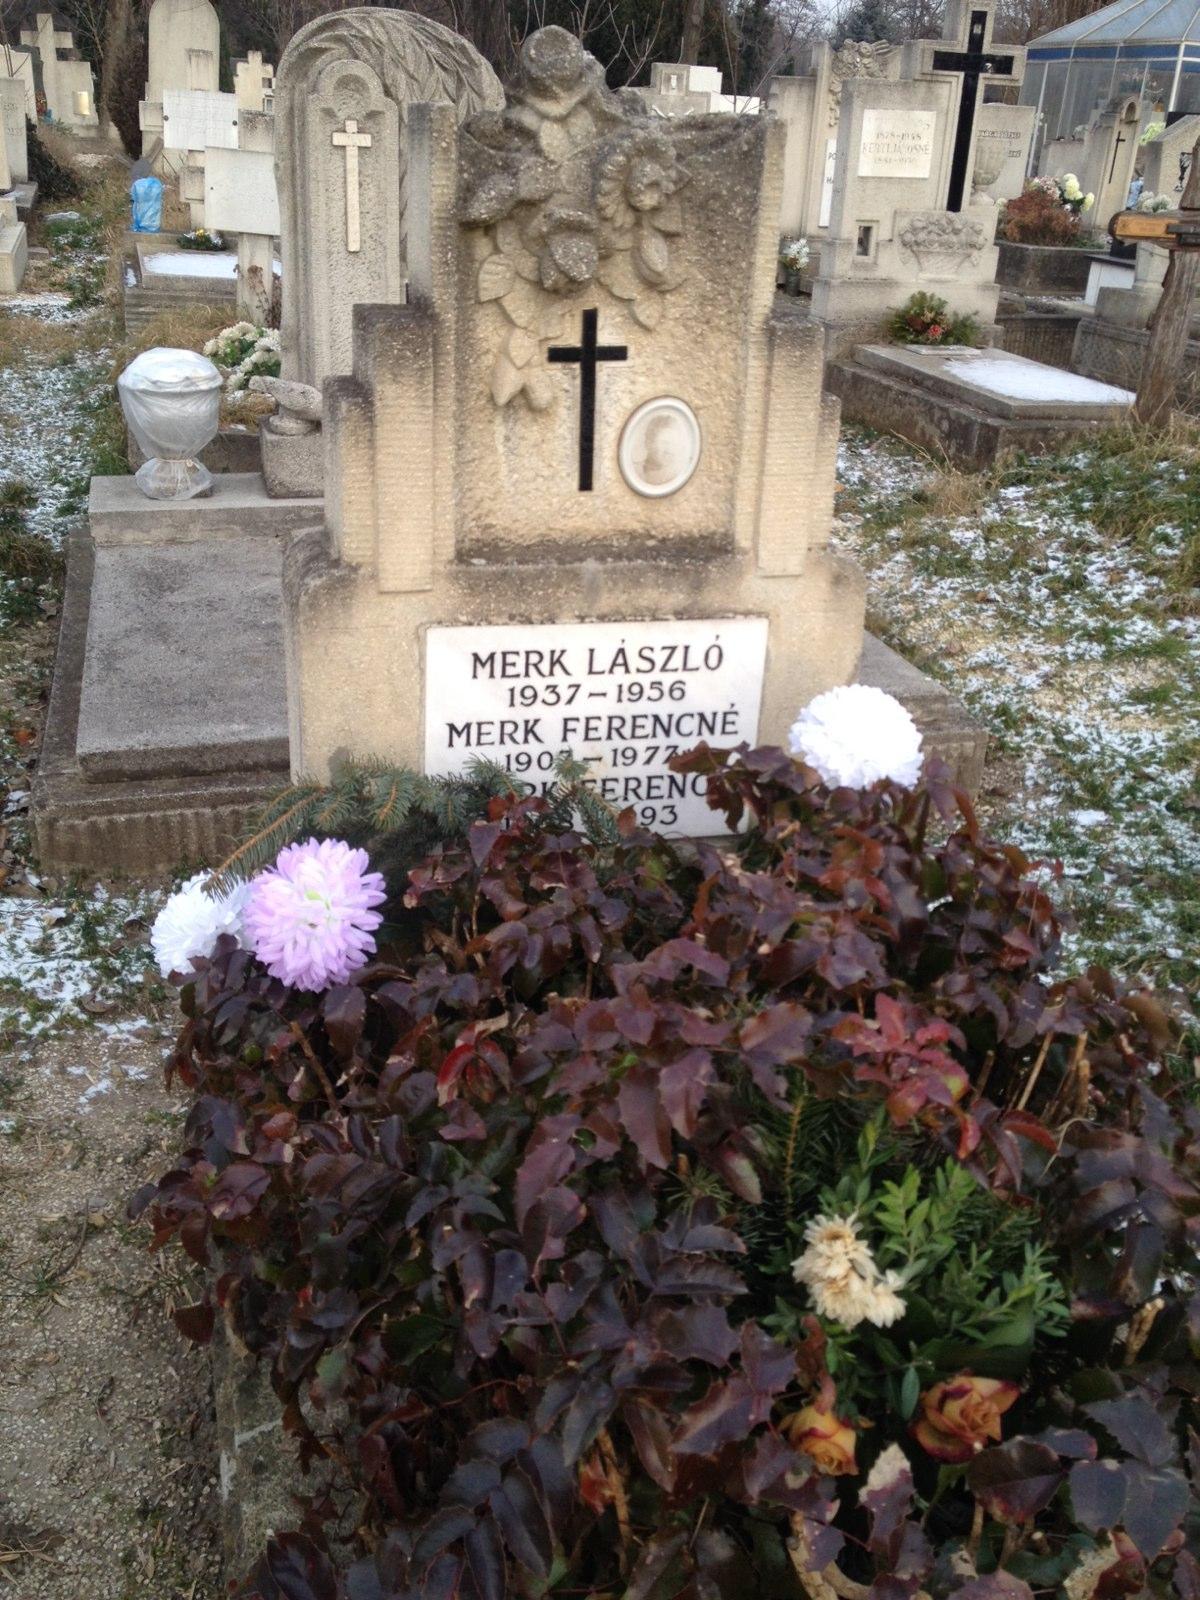upright: (286, 72, 871, 997)
